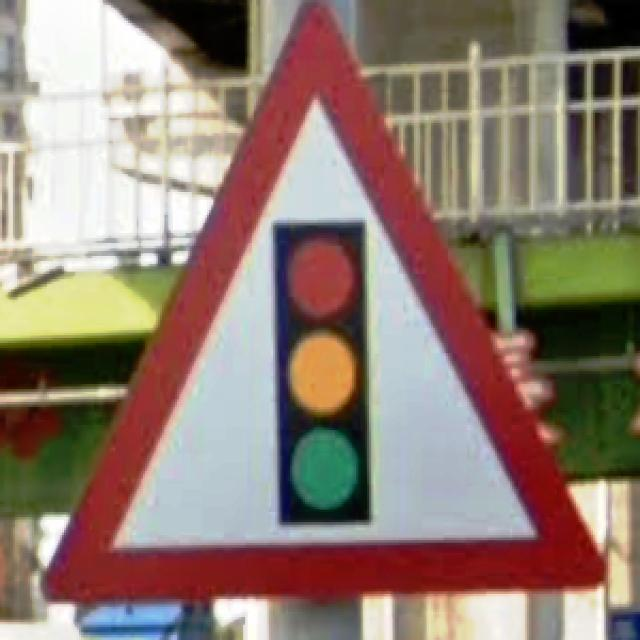signalahead: (43, 0, 606, 609)
